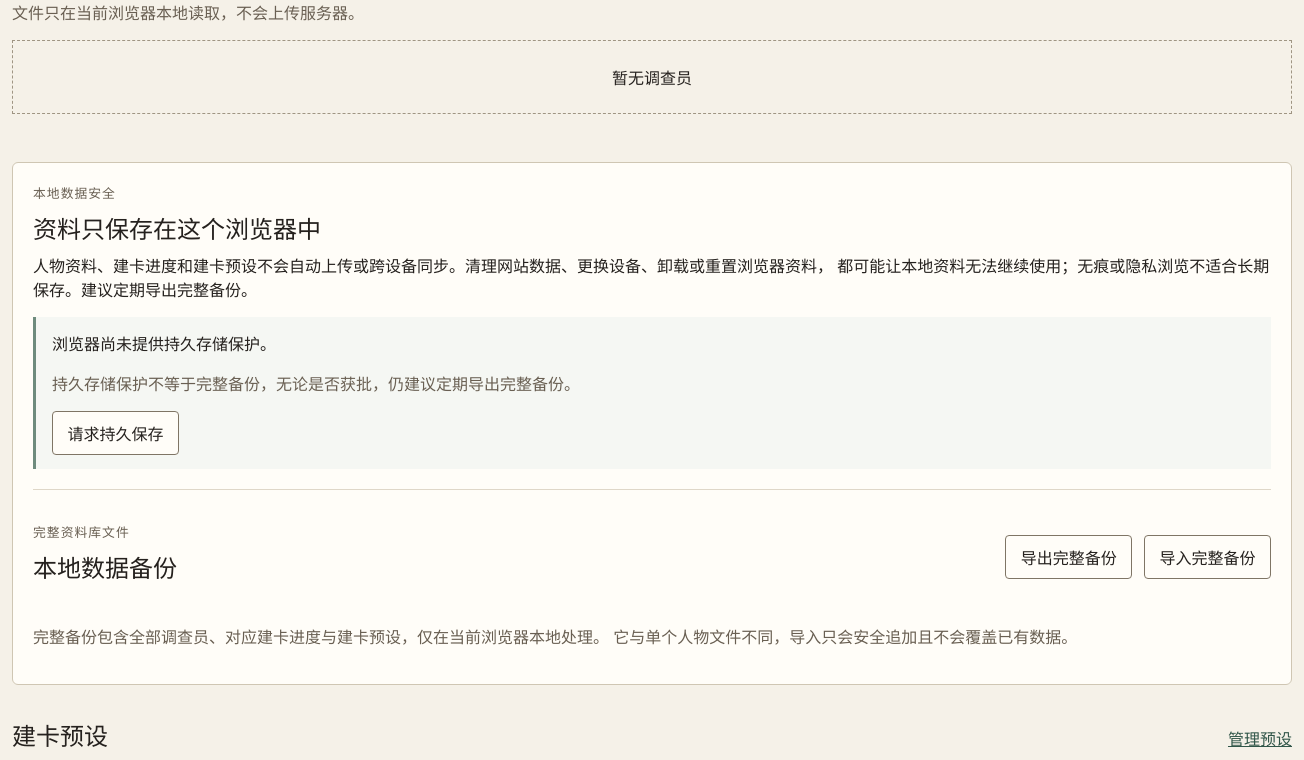
Test case: HomePage portable Character integration › 长期显示备份语义，并只在明确点击后请求持久存储保护
(page scrolled)
Click the button "请求持久保存": {"x": 115, "y": 433} [52,411,179,455]
(page scrolled)
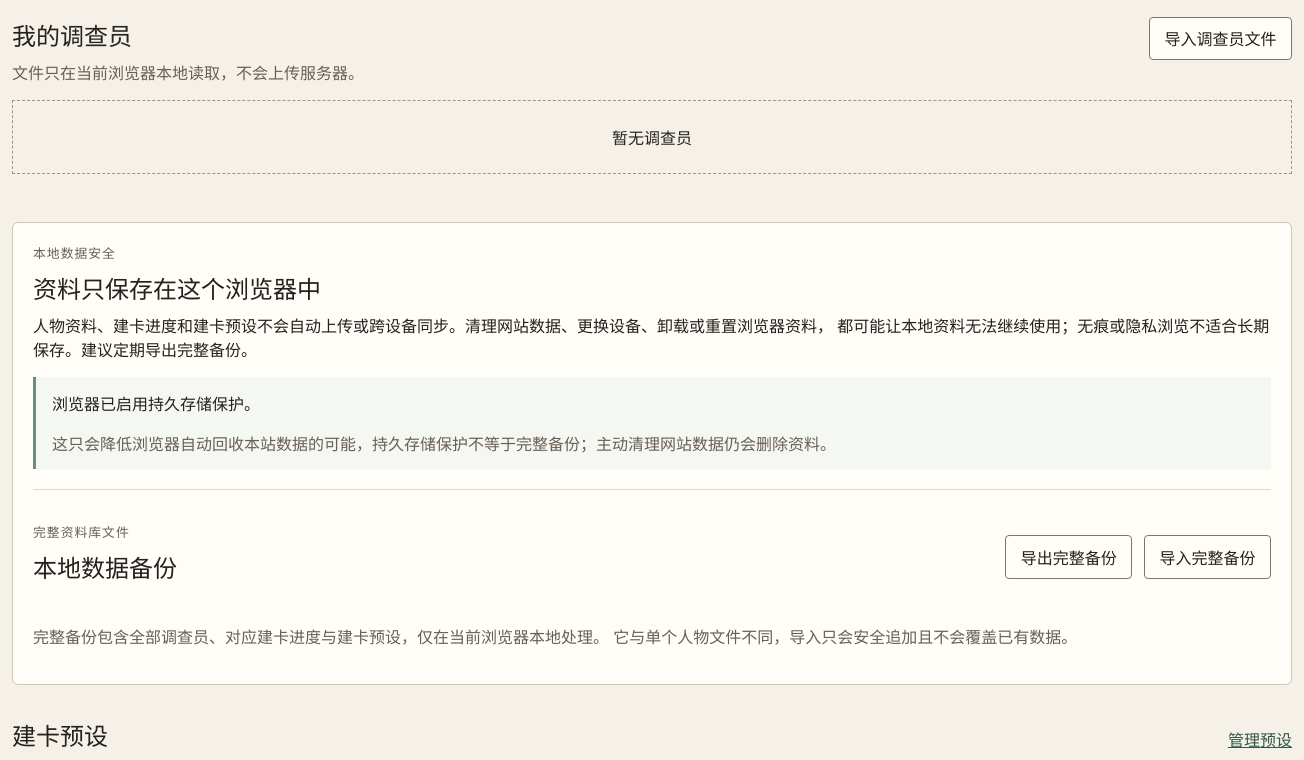
expect the text "浏览器已启用持久存储保护" is shown: met, box [52,393,260,415]
